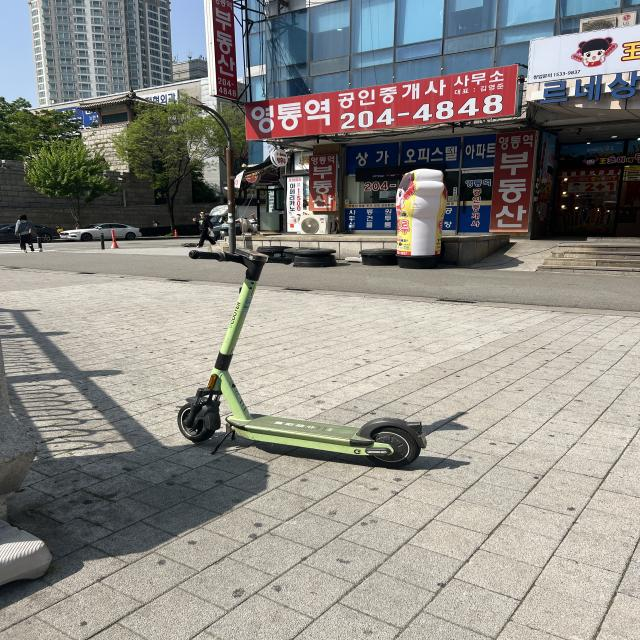kick-board: (177, 249, 427, 469), (47, 388, 50, 389)
sidewalk: (0, 240, 638, 640)
